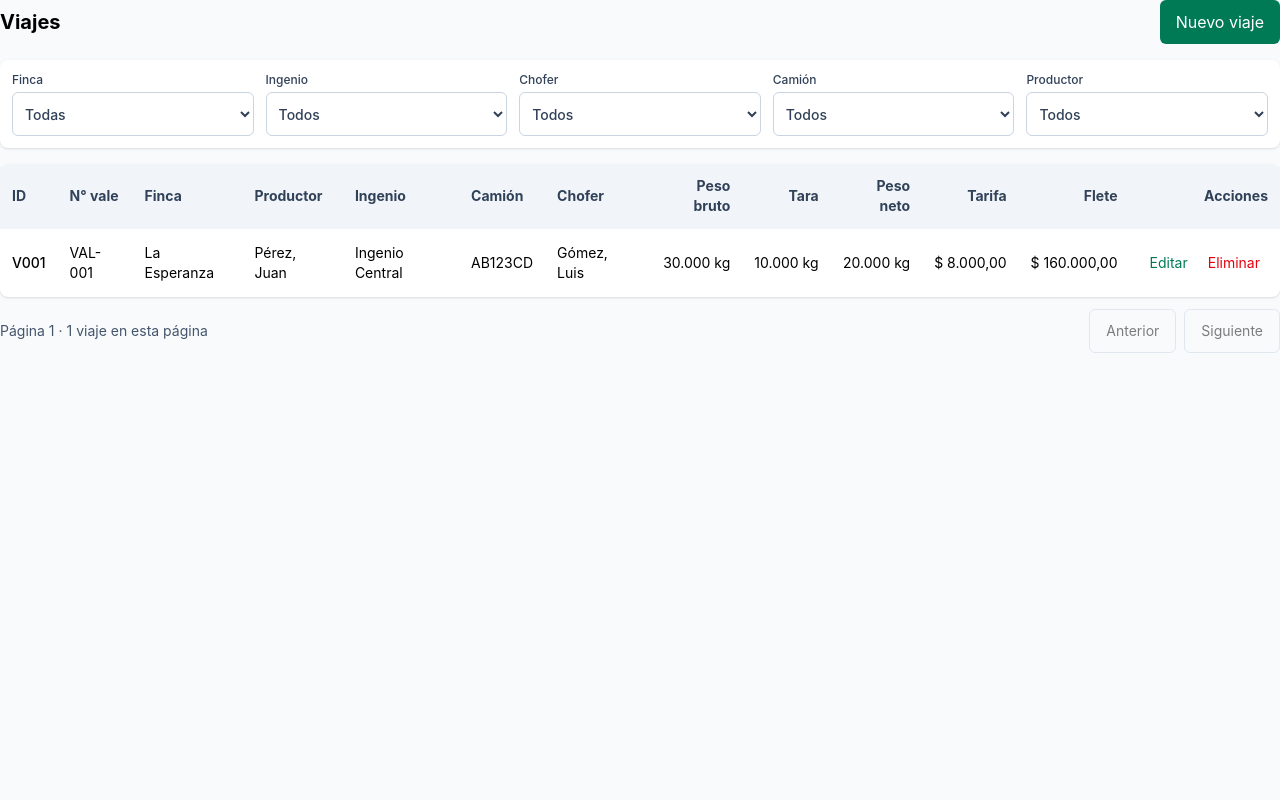
Test: ViajesPage › muestra el motivo cuando el backend rechaza la baja con 409
Expected: the text "V001" is shown, [0,228,58,297]
Click the button "Eliminar" at (1234,263), box [1200,241,1268,285]
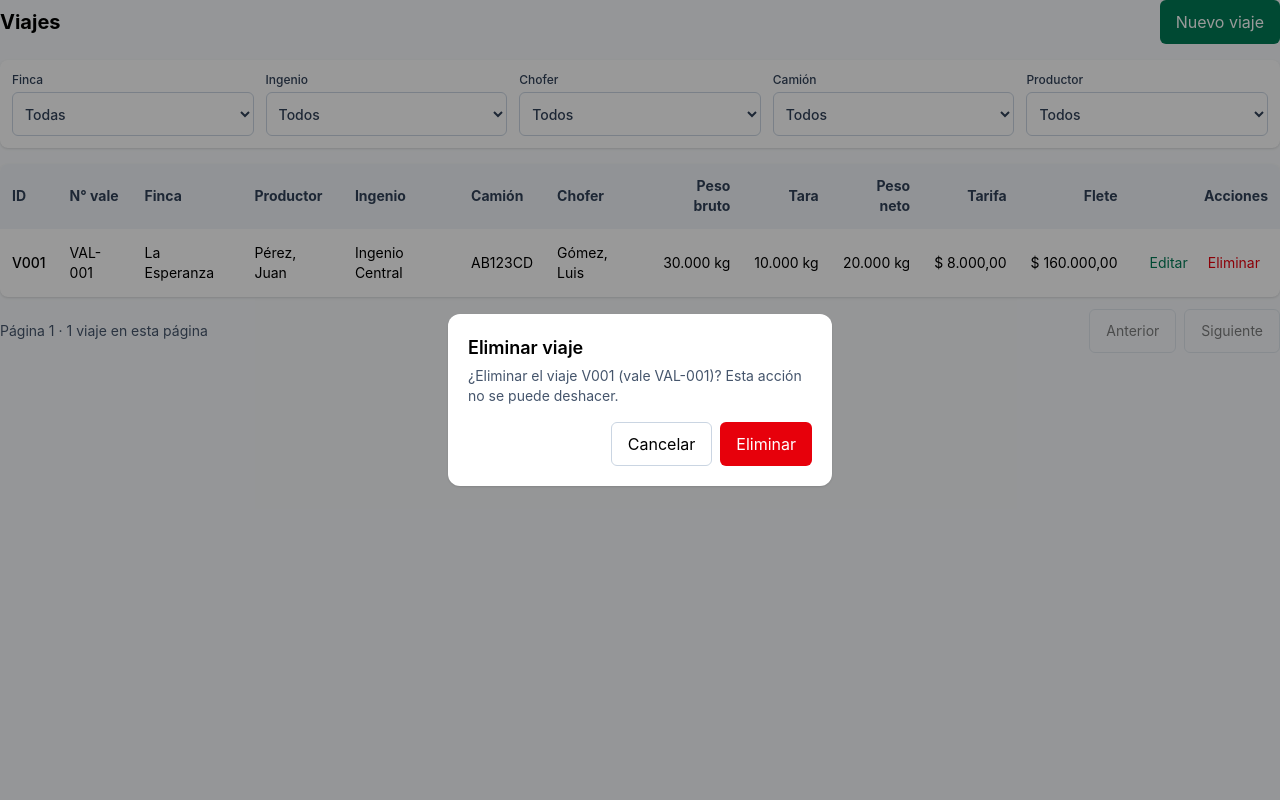
Expected: the text "¿Eliminar el viaje V001" is shown, [468,367,802,404]
Click the button "Eliminar" at (766,444), box [720,422,812,466]
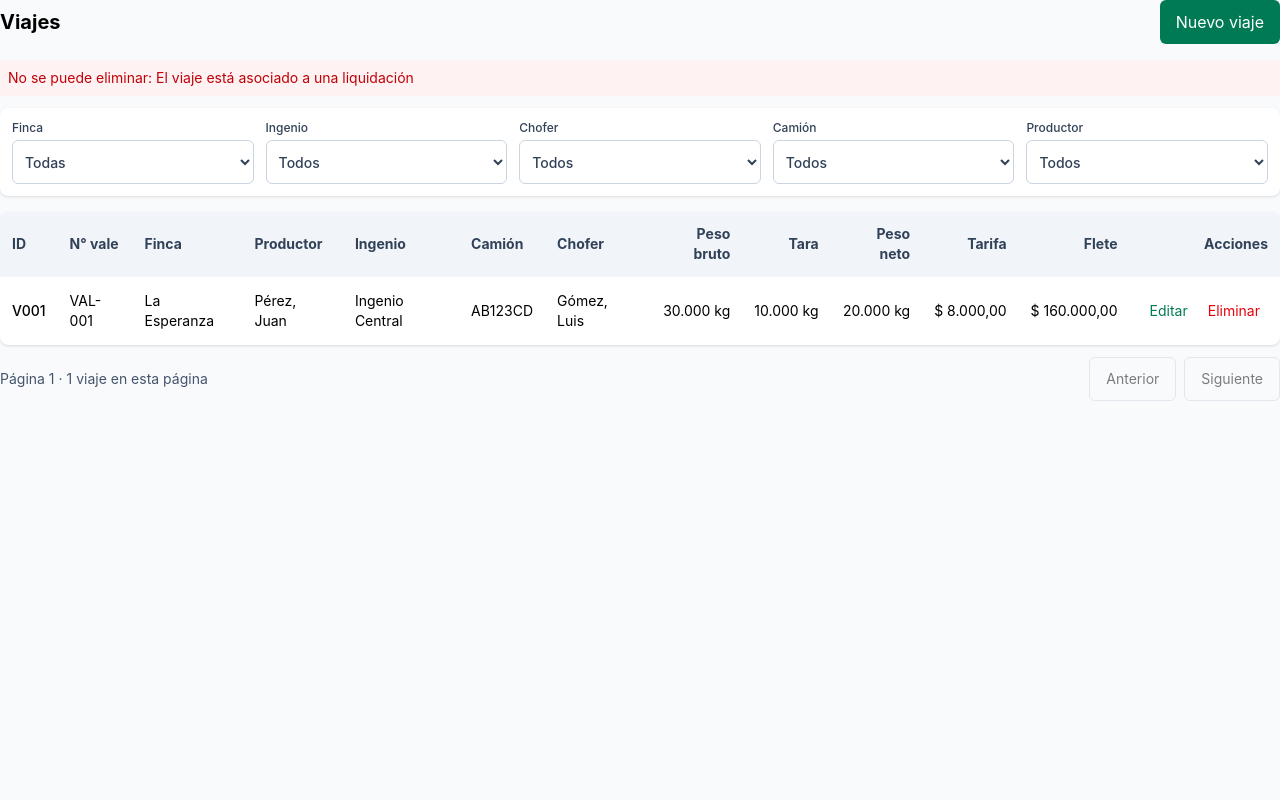
Expected: the message reads "No se puede eliminar: El viaje está asociado a una liquidación", [8,69,414,86]
